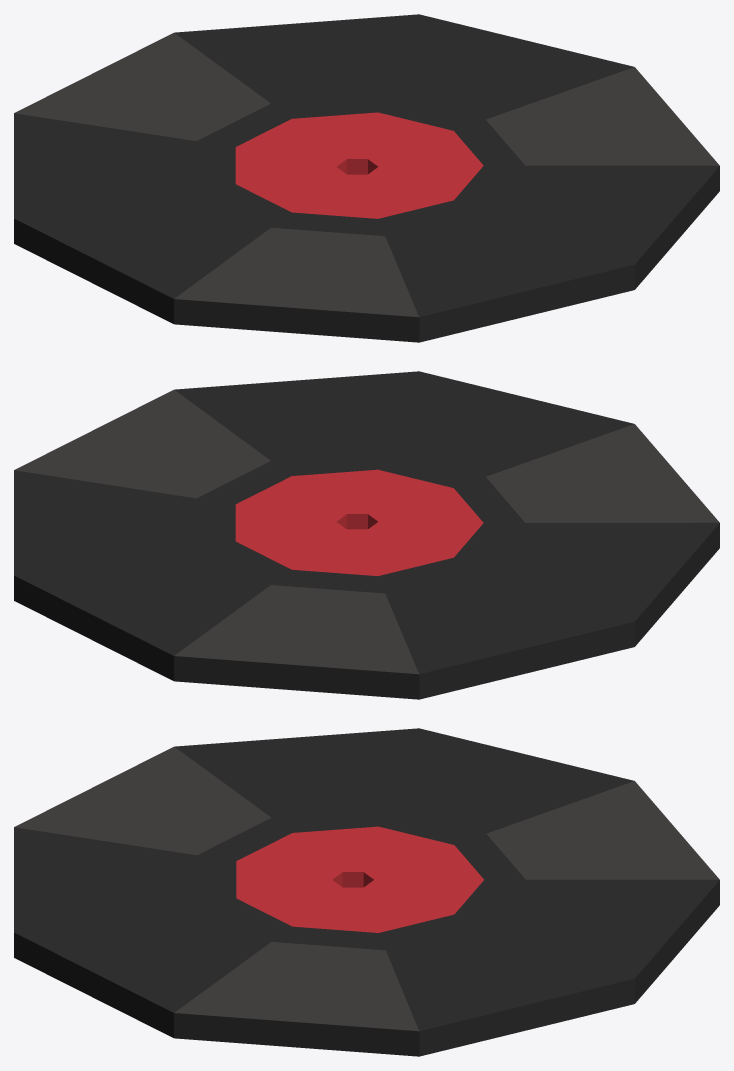
Rendered from music-record.glb.
3 views of the same model, one above another, from view 1: azimuth 30°, elevation 25°; view 2: azimuth 150°, elevation 25°; view 3: azimuth 270°, elevation 25° (orthographic).
Visible parts, largest first — view 1: music-record; view 2: music-record; view 3: music-record.
Boxes of the visible parts, box(x1,y1,x2,y2) form: music-record: box(14, 14, 719, 342); music-record: box(14, 371, 719, 699); music-record: box(14, 728, 719, 1056).
Size of the model in its own units: 0.256 by 0.01 by 0.2522.
1 material, 1 textured.
